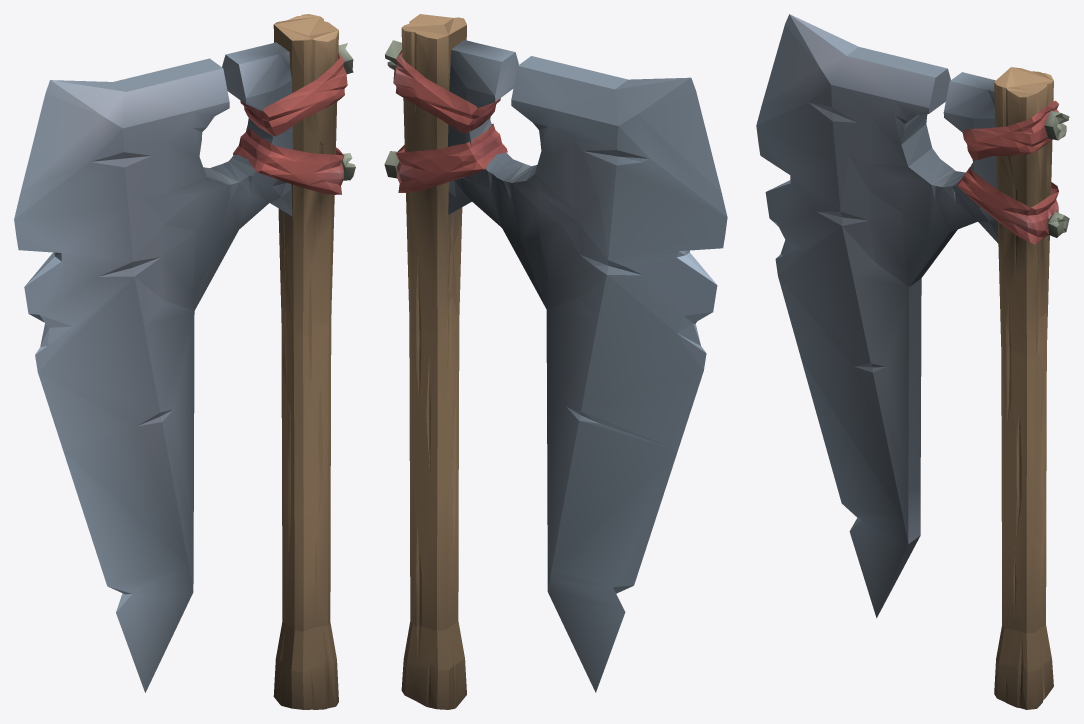
Rendered from epic_GiantCleaver.fbx.
The picture shows the model from 3 angles, left to right: view 1: azimuth 30°, elevation 25°; view 2: azimuth 150°, elevation 25°; view 3: azimuth 330°, elevation 25°; orthographic projection. The views are drawn at different scales.
Parts seen in each view (by area): view 1: epic_GiantCleaver_mesh; view 2: epic_GiantCleaver_mesh; view 3: epic_GiantCleaver_mesh.
Boxes of the visible parts, bbox=[...] form: epic_GiantCleaver_mesh: bbox=[14, 14, 355, 709]; epic_GiantCleaver_mesh: bbox=[384, 14, 727, 709]; epic_GiantCleaver_mesh: bbox=[756, 14, 1069, 709].
Size of the model in its own units: 1.25 by 2.43 by 0.2245.
